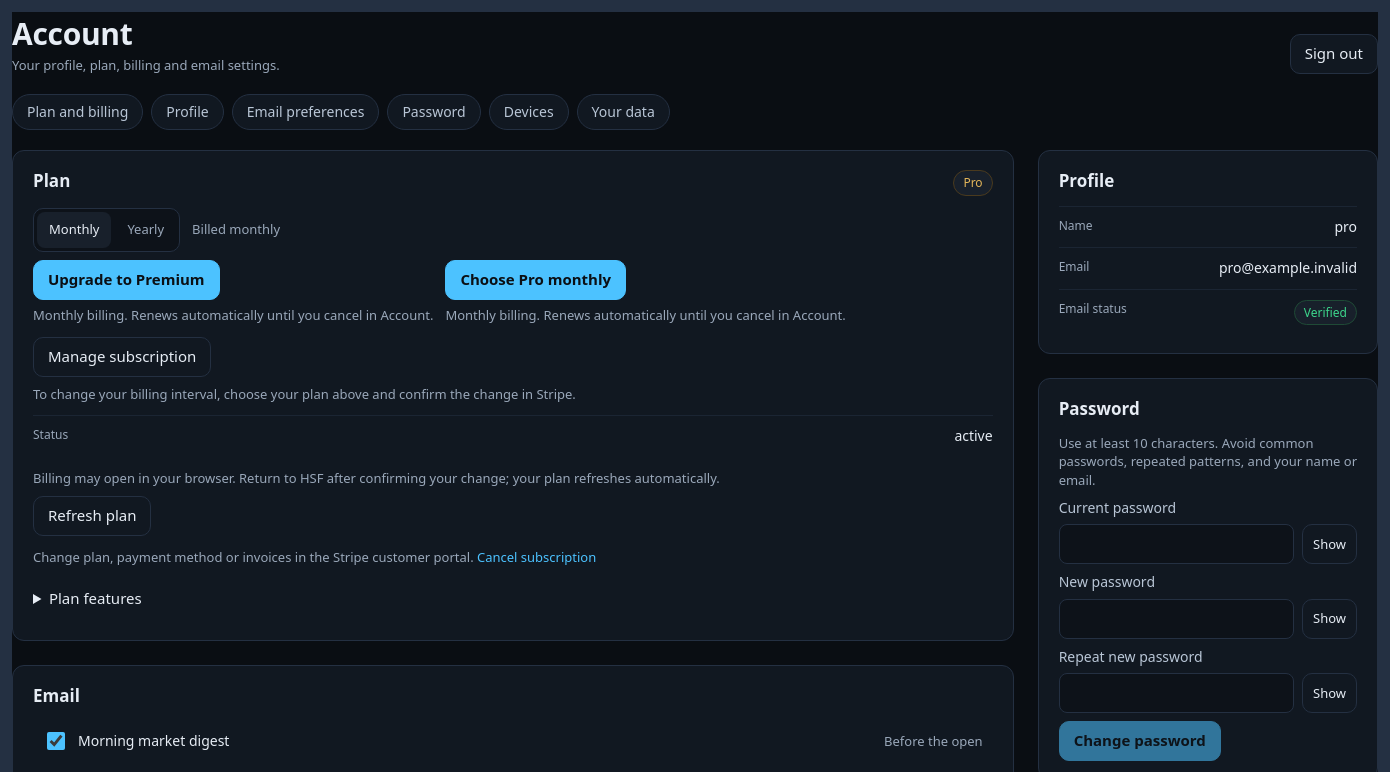
Account › Pro: manage subscription opens the Stripe portal; no subscription yet is explained
Click the button "Manage subscription" at (122, 357), box [33,337,211,377]
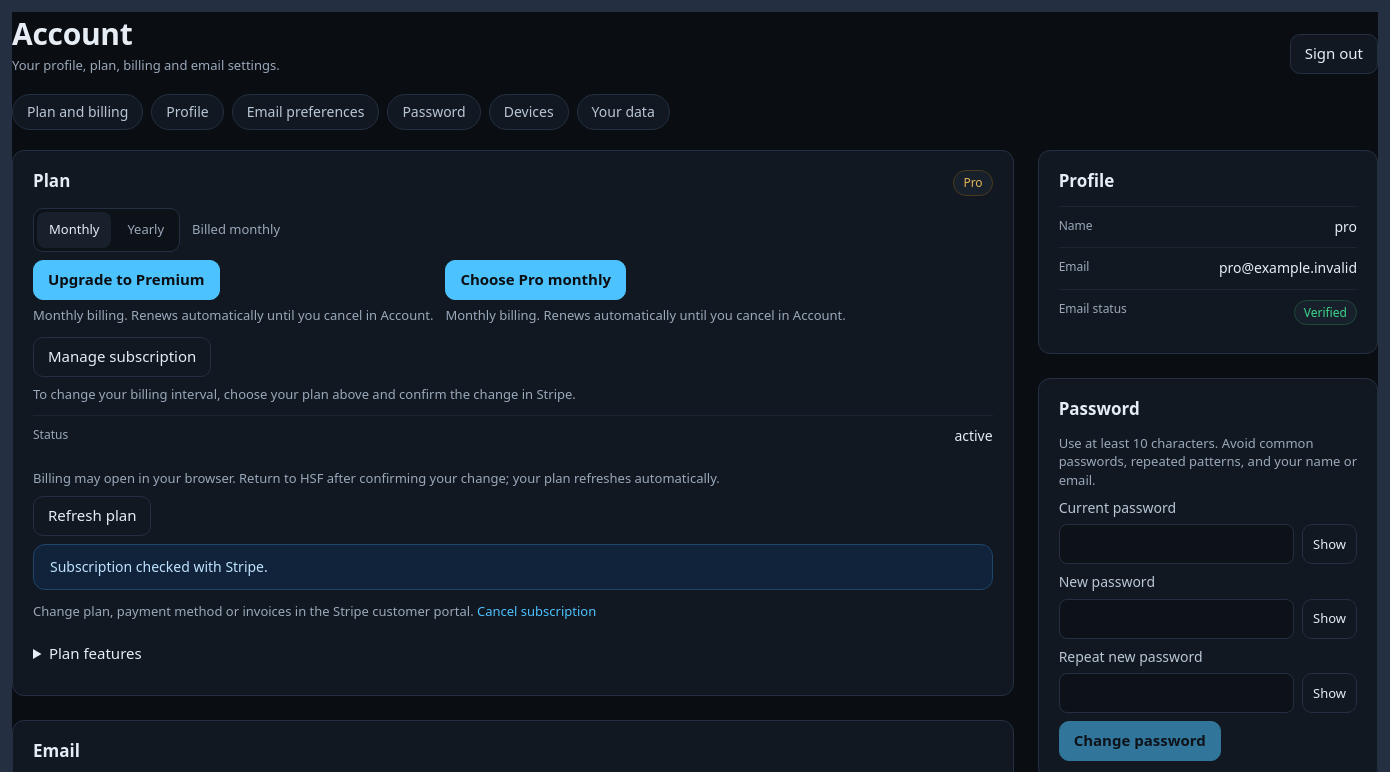
Click the button "Cancel subscription" at (537, 611), box [477,602,596,621]
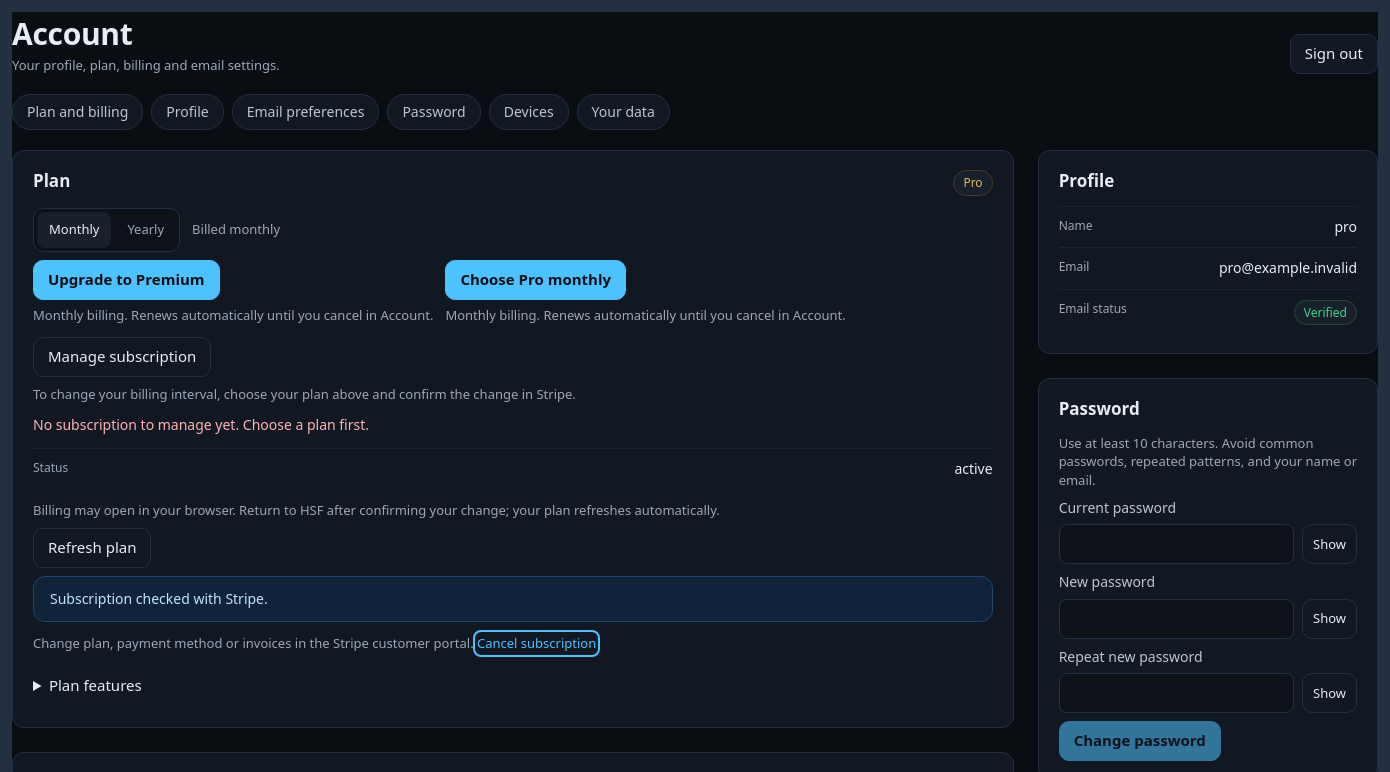
Check: the message "No subscription to manage yet. Choose a plan first." is shown, box [33,415,369,434]
